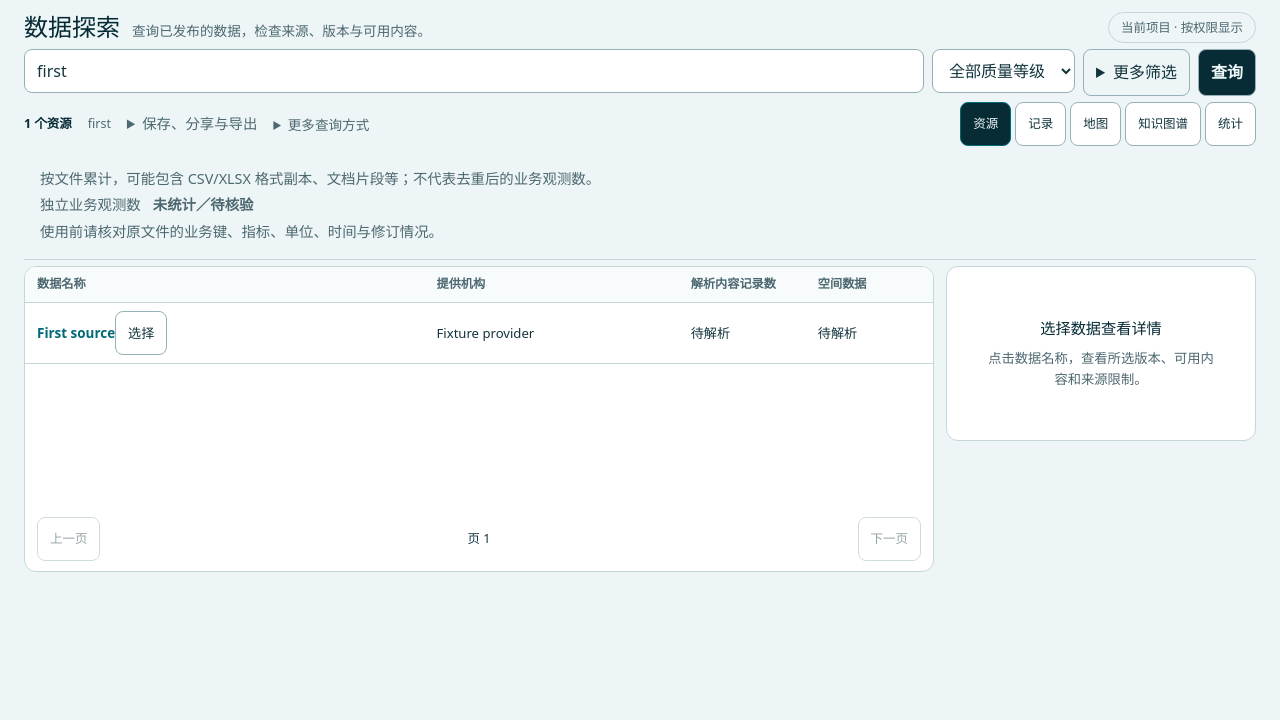
exploration query navigation › ignores a late aborted result and keeps the newest query
Click the button "查询".
click(1227, 73)  # box top-left (1198, 49), bottom-right (1256, 96)
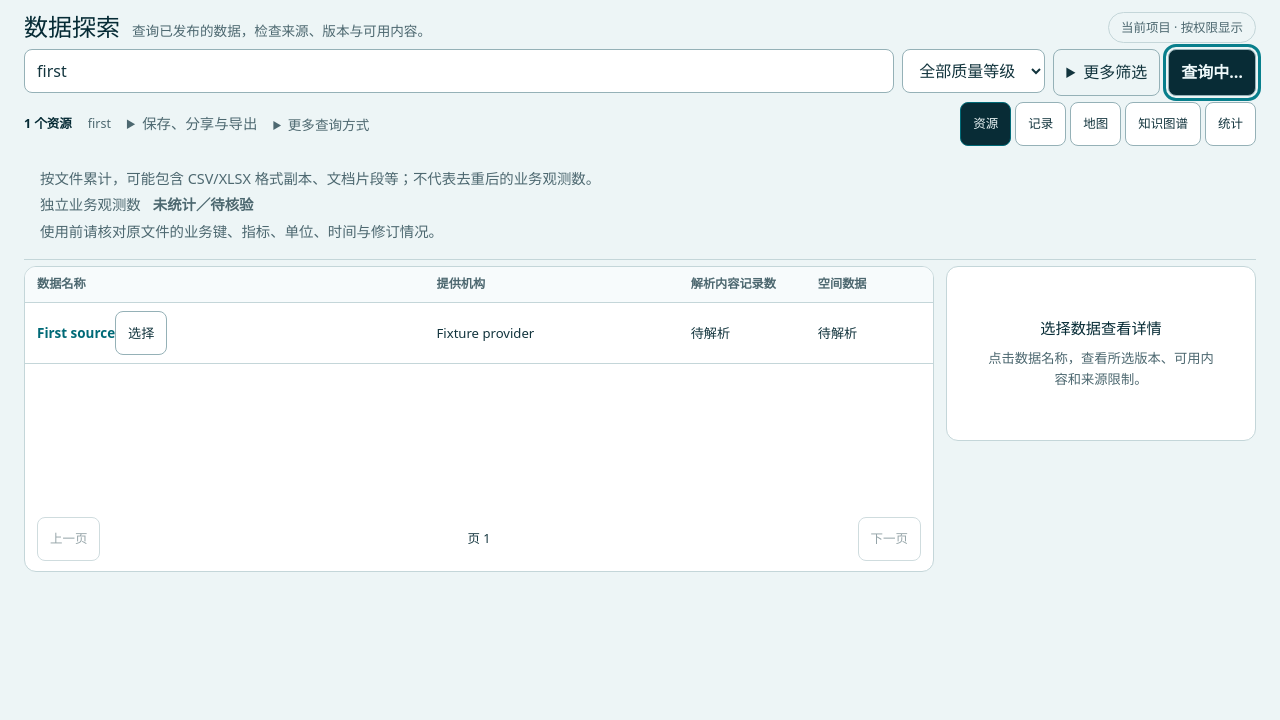
Click the button "查询中…".
click(1212, 73)  # box top-left (1168, 49), bottom-right (1256, 96)
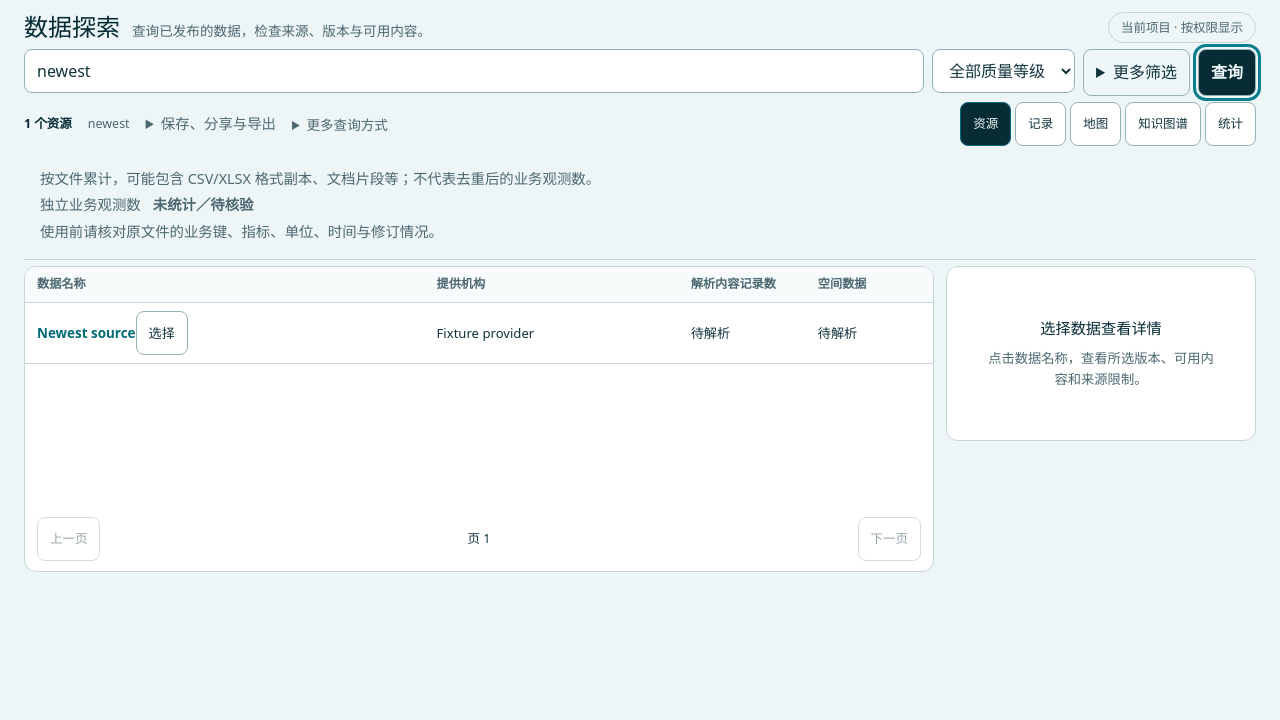
Expected: the button with aria-label "Newest source" is shown, top-left (136, 311), bottom-right (188, 355)
